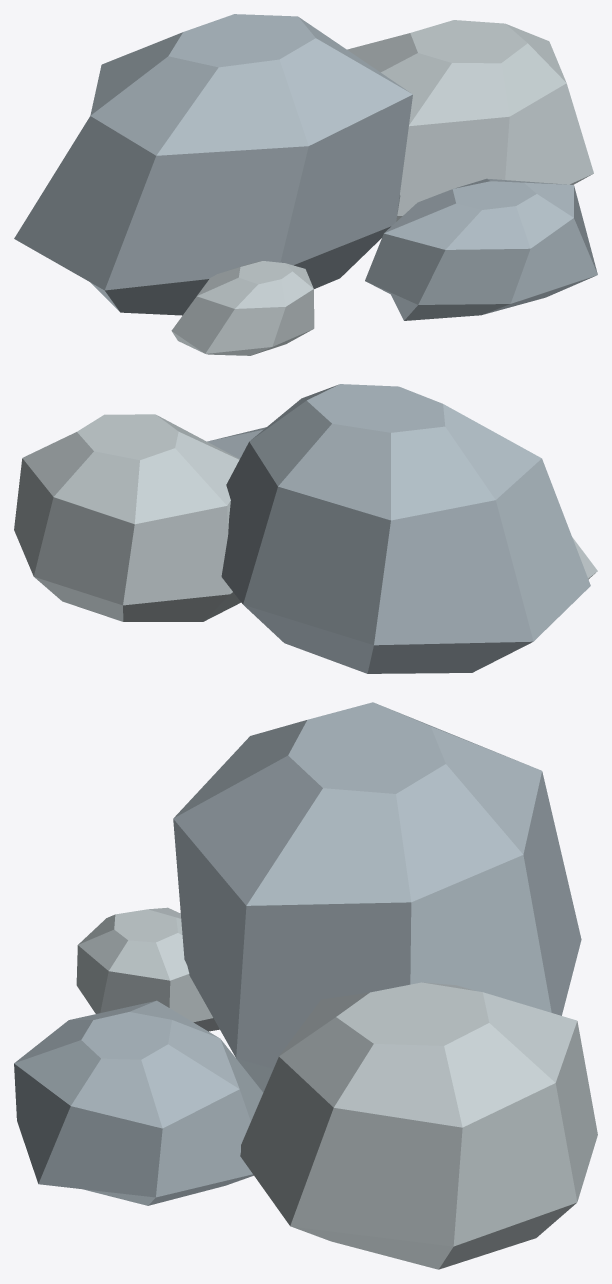
File: rock.glb
3 renders of one model, top to bottom at view 1: azimuth 30°, elevation 25°; view 2: azimuth 150°, elevation 25°; view 3: azimuth 270°, elevation 25°, orthographic. The views are drawn at different scales.
Parts seen in each view (by area): view 1: rock; view 2: rock; view 3: rock.
Boxes of the visible parts, box(x1,y1,x2,y2) form: rock: box(14, 14, 597, 355); rock: box(14, 384, 597, 673); rock: box(14, 702, 597, 1269).
Bounding box in the file's own units: 1.37 × 0.5358 × 0.9246.
